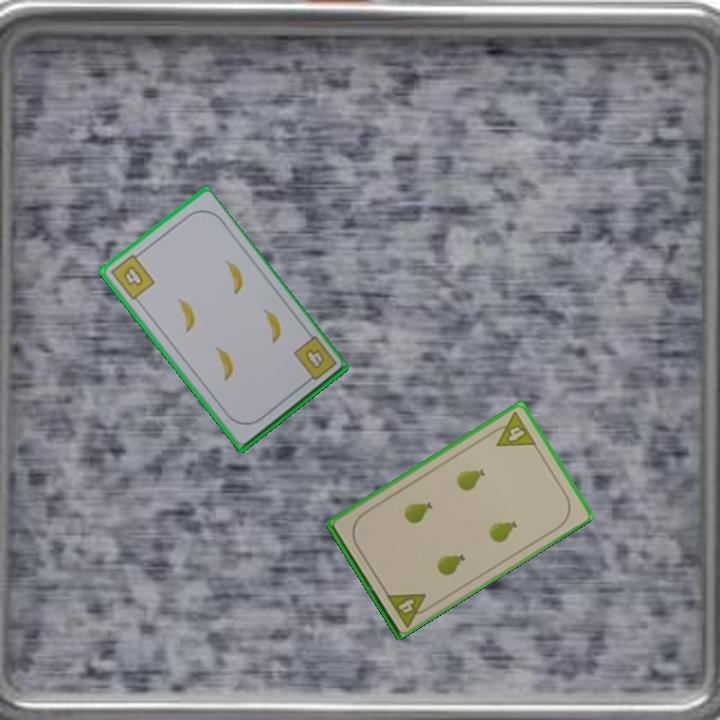4b: (107, 248, 158, 303), (291, 333, 339, 387)
4p: (486, 408, 539, 450), (382, 589, 435, 629)
